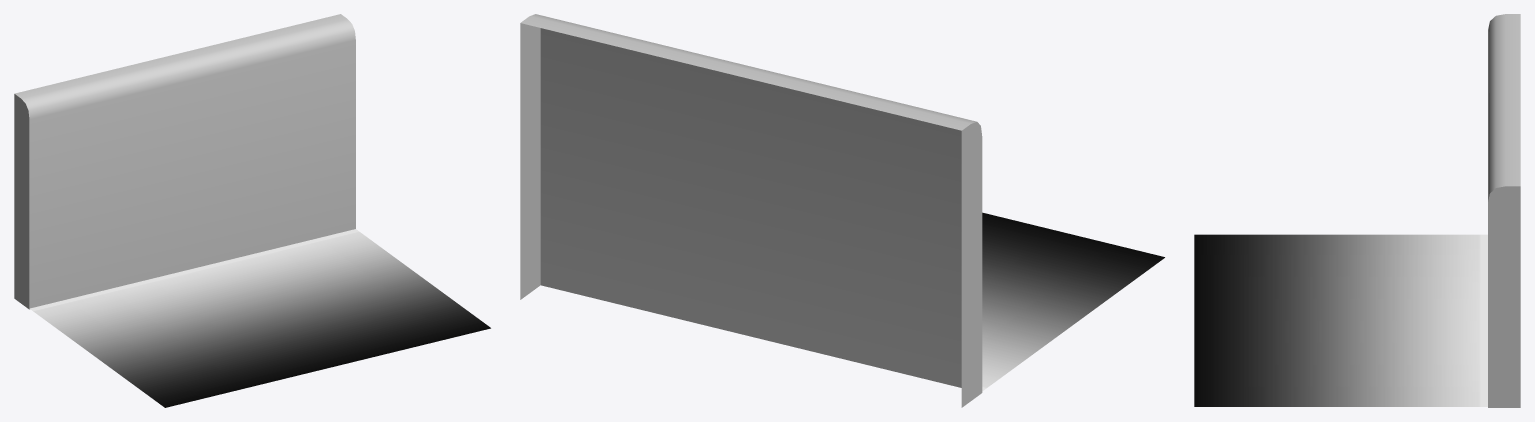
The model's file is Plinth01_25cm.FBX.
The picture shows the model from 3 angles, left to right: view 1: azimuth 30°, elevation 25°; view 2: azimuth 150°, elevation 25°; view 3: azimuth 270°, elevation 25°; orthographic projection. The views are drawn at different scales.
Parts seen in each view (by area): view 1: Plinth, Backlight; view 2: Plinth, Backlight; view 3: Backlight, Plinth.
Part boxes in pixels (left/top/right/bottom): Plinth: left=14, top=14, right=355, bottom=309; Backlight: left=30, top=229, right=490, bottom=407; Plinth: left=520, top=14, right=982, bottom=407; Backlight: left=982, top=212, right=1164, bottom=391; Backlight: left=1194, top=234, right=1487, bottom=406; Plinth: left=1488, top=14, right=1520, bottom=407.
Bounding box in the file's own units: 250 × 150 × 200.
